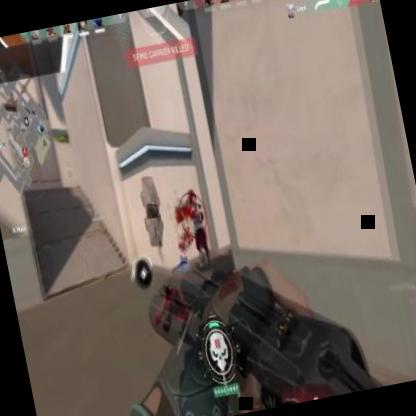enemy: (184, 188, 214, 270)
enemy_head: (189, 191, 197, 204)
